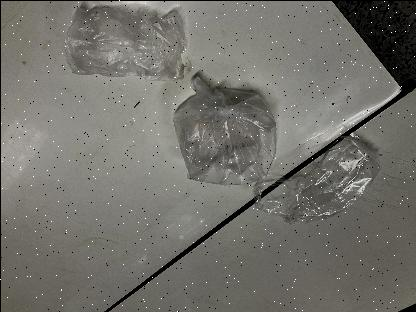Others: (249, 128, 384, 226), (166, 74, 278, 186), (58, 0, 190, 90)
